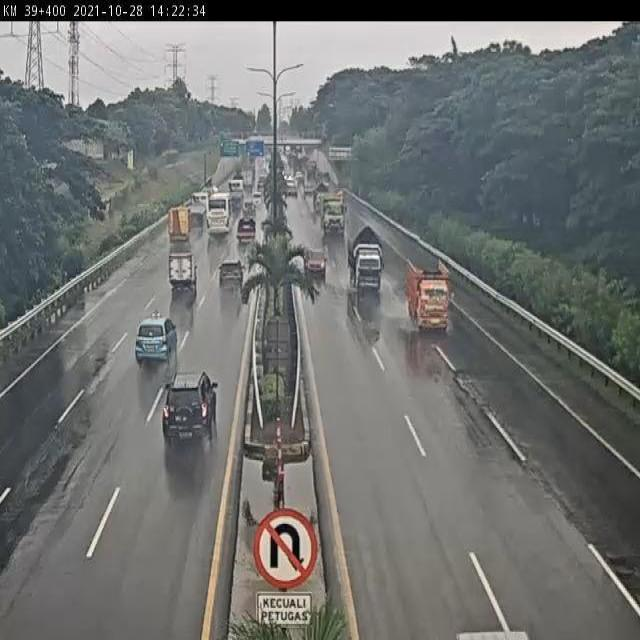ARABA: (160, 369, 218, 443), (136, 313, 179, 364), (168, 252, 199, 292), (218, 259, 245, 293), (303, 245, 328, 276)
KAMYONET: (405, 258, 451, 334), (347, 227, 385, 294), (166, 205, 192, 243), (236, 216, 256, 243)
OTOBUS: (204, 192, 234, 239)
TIR: (320, 195, 347, 236)
